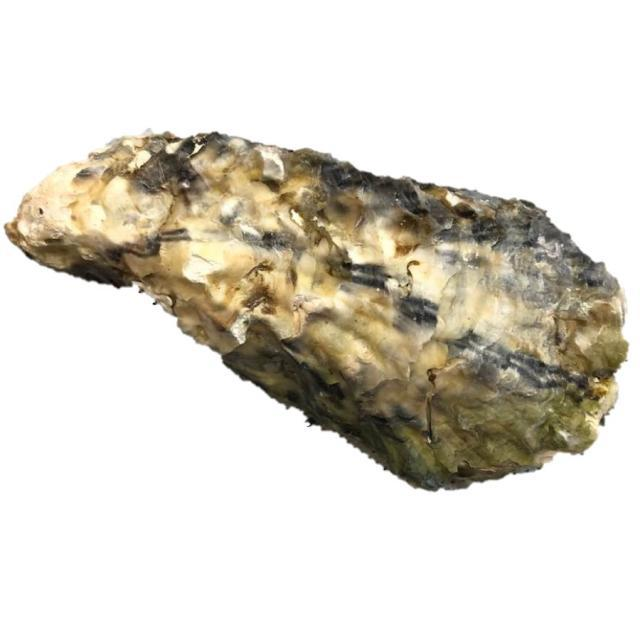Oyster- Indeterminate: (0, 127, 634, 501)
